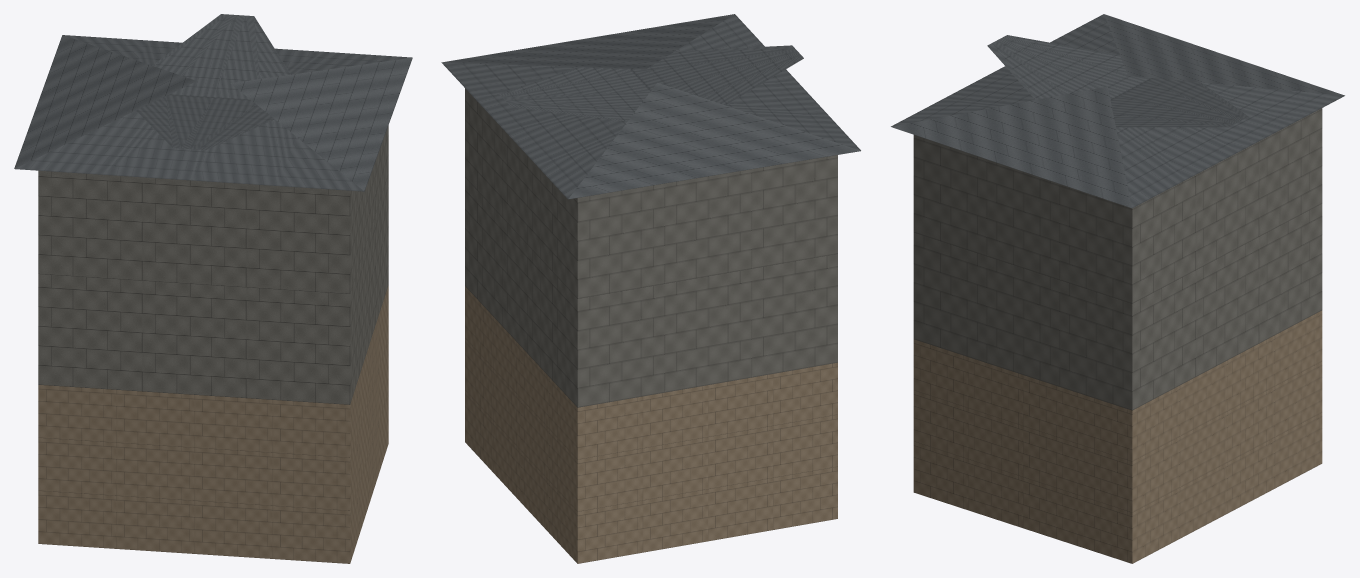
Rendered from bld_c16_43_454.gltf.
The picture shows the model from 3 angles, left to right: view 1: azimuth 30°, elevation 25°; view 2: azimuth 150°, elevation 25°; view 3: azimuth 270°, elevation 25°; orthographic projection. The views are drawn at different scales.
Parts seen in each view (by area): view 1: bld_c16_43_454; view 2: bld_c16_43_454; view 3: bld_c16_43_454.
Part boxes in pixels (box(x1,y1,x2,y2)): bld_c16_43_454: box(14, 14, 412, 563); bld_c16_43_454: box(441, 14, 860, 563); bld_c16_43_454: box(891, 14, 1344, 563).
Bounding box in the file's own units: 13.87 × 13.2 × 13.72.
3 materials, 3 textured.
